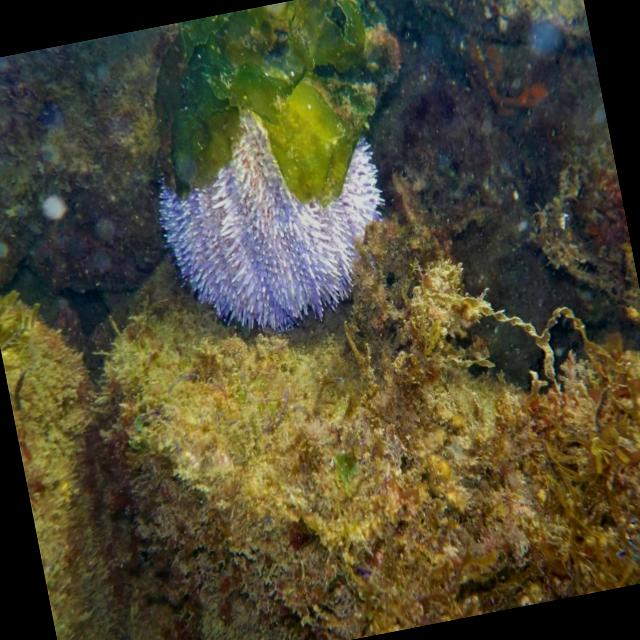Deniz Kestanesi: (138, 76, 404, 350)
